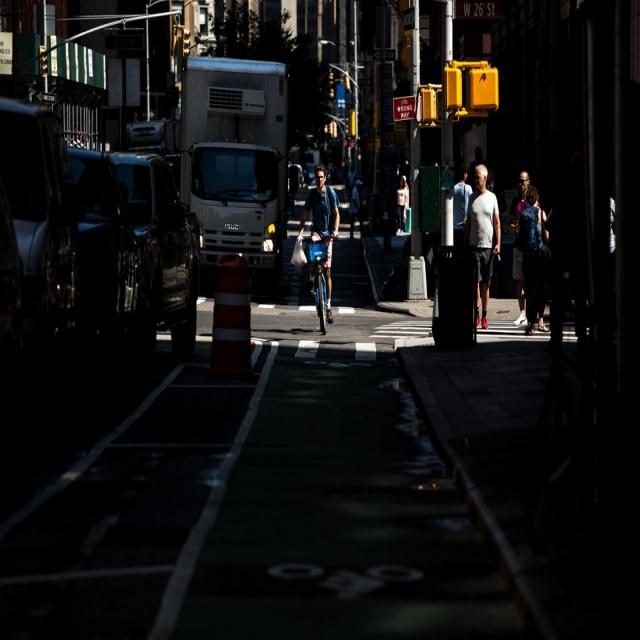body: (552, 181, 621, 344), (296, 164, 341, 326), (461, 162, 502, 330), (516, 180, 550, 338), (506, 169, 540, 327), (453, 164, 474, 246), (348, 179, 366, 241), (396, 174, 409, 236), (484, 164, 500, 198), (468, 144, 485, 169), (402, 173, 409, 224), (347, 164, 356, 202)
